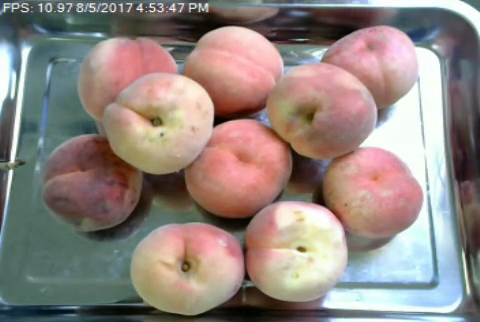Peach: (102, 74, 217, 175), (265, 64, 380, 162), (243, 200, 351, 304), (182, 118, 292, 218), (128, 224, 245, 316), (40, 132, 141, 231), (311, 22, 424, 109), (321, 146, 424, 238), (184, 25, 283, 115), (81, 35, 172, 124)
